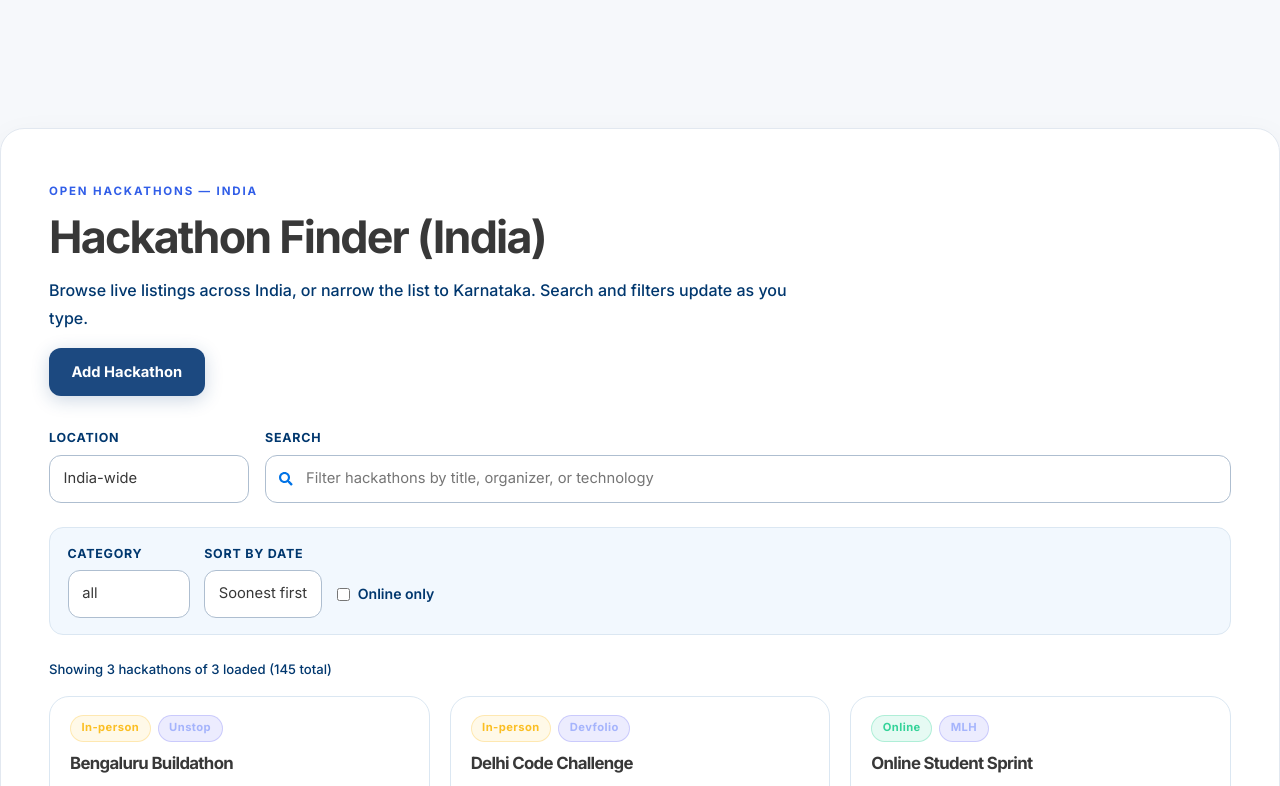
Test: HackathonFinder › loads India-wide events by default and filters to Karnataka
Expected: the heading "Bengaluru Buildathon" is shown, [70,753,233,773]
Select "Karnataka only" in the dropdown named "Search location" at (149, 479), box [49,455,249,503]
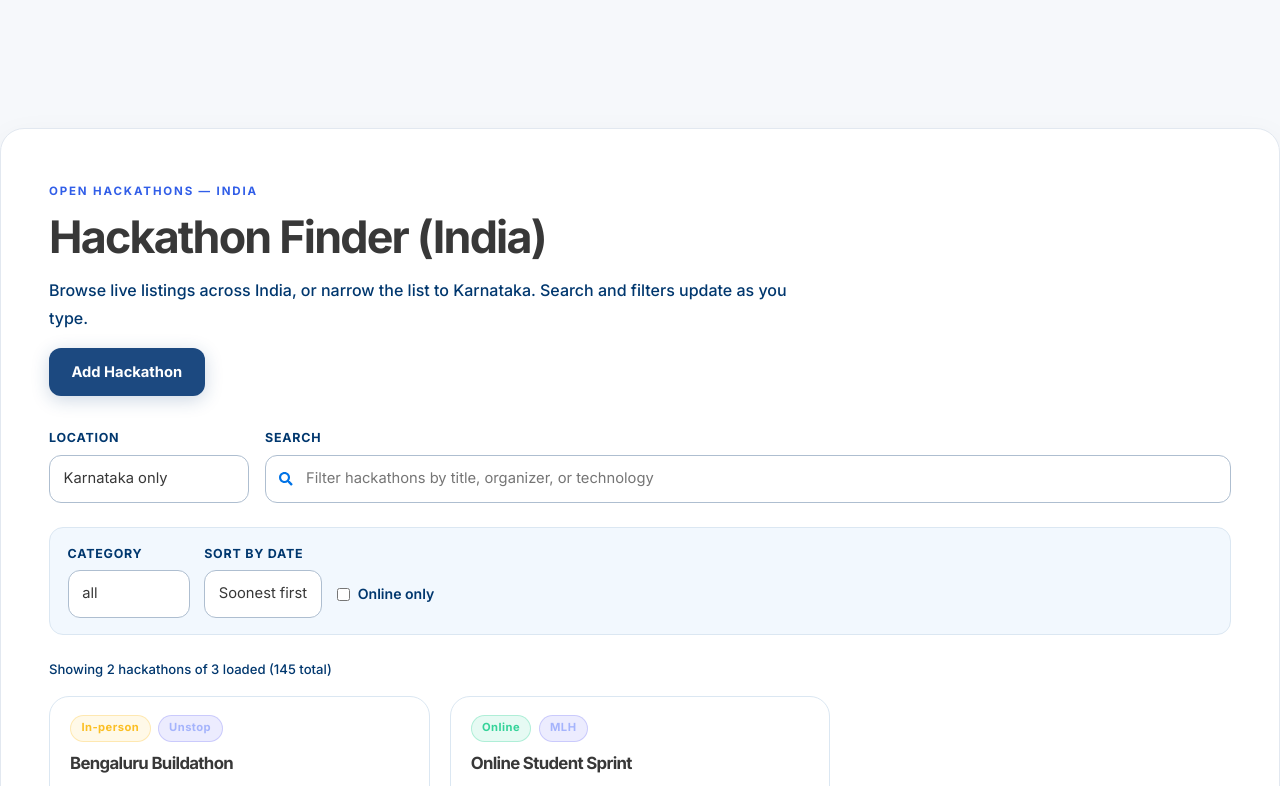
Expected: the heading "Bengaluru Buildathon" is shown, [70,753,233,773]
Expected: the heading "Delhi Code Challenge" is gone
